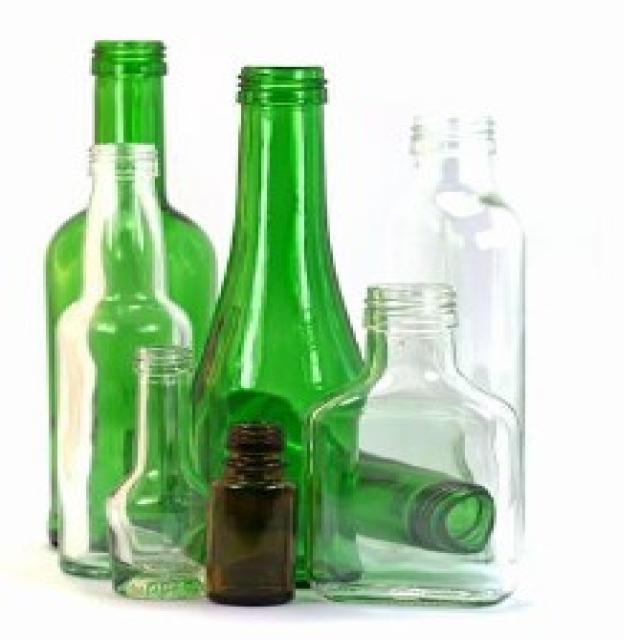electronic: (38, 39, 224, 586), (198, 64, 368, 588), (303, 281, 525, 611), (106, 345, 218, 598), (204, 418, 298, 608)
